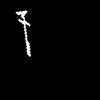double_crochet: (16, 11, 30, 55)
